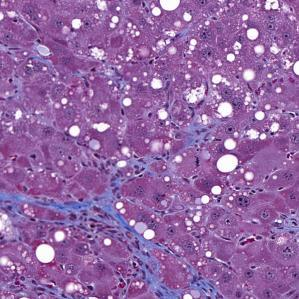fibrosis: (82, 200, 174, 273)
